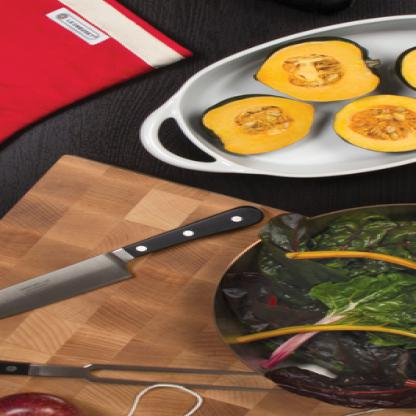knife: (0, 202, 275, 338)
